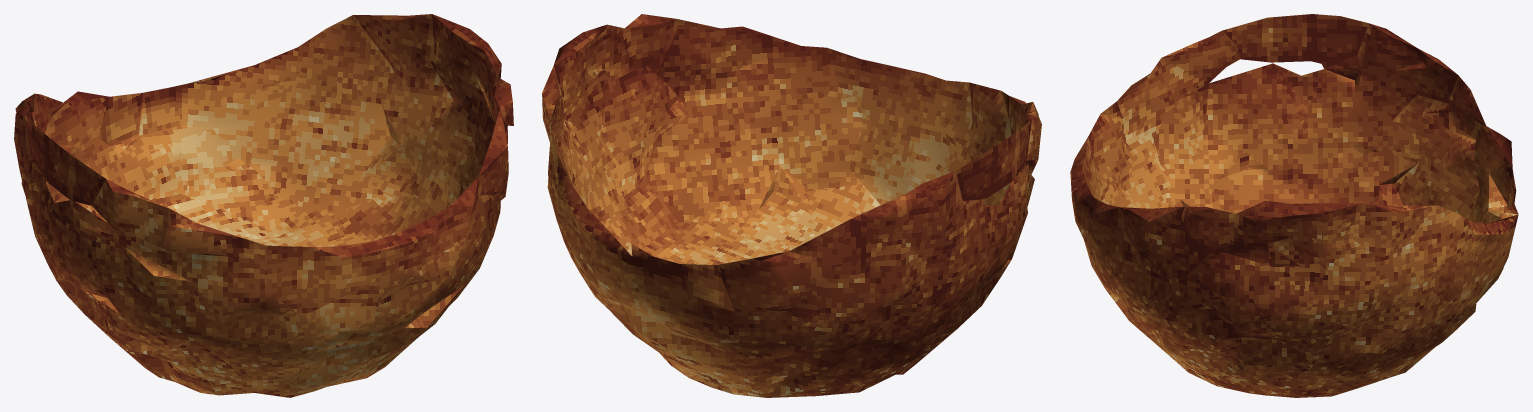
Rendered from wooden_bowl_02.glb.
3 views of the same model, side by side, from view 1: azimuth 30°, elevation 25°; view 2: azimuth 150°, elevation 25°; view 3: azimuth 270°, elevation 25° (orthographic). The views are drawn at different scales.
Visible parts, largest first — view 1: body; view 2: body; view 3: body.
Boxes of the visible parts, x1=… form: body: x1=14, y1=14, x2=513, y2=397; body: x1=542, y1=14, x2=1041, y2=397; body: x1=1070, y1=14, x2=1518, y2=397.
Bounding box in the file's own units: 0.1268 × 0.0731 × 0.1222.
1 material, 1 textured.
